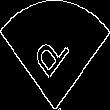P_SW: (33, 24, 77, 86)
